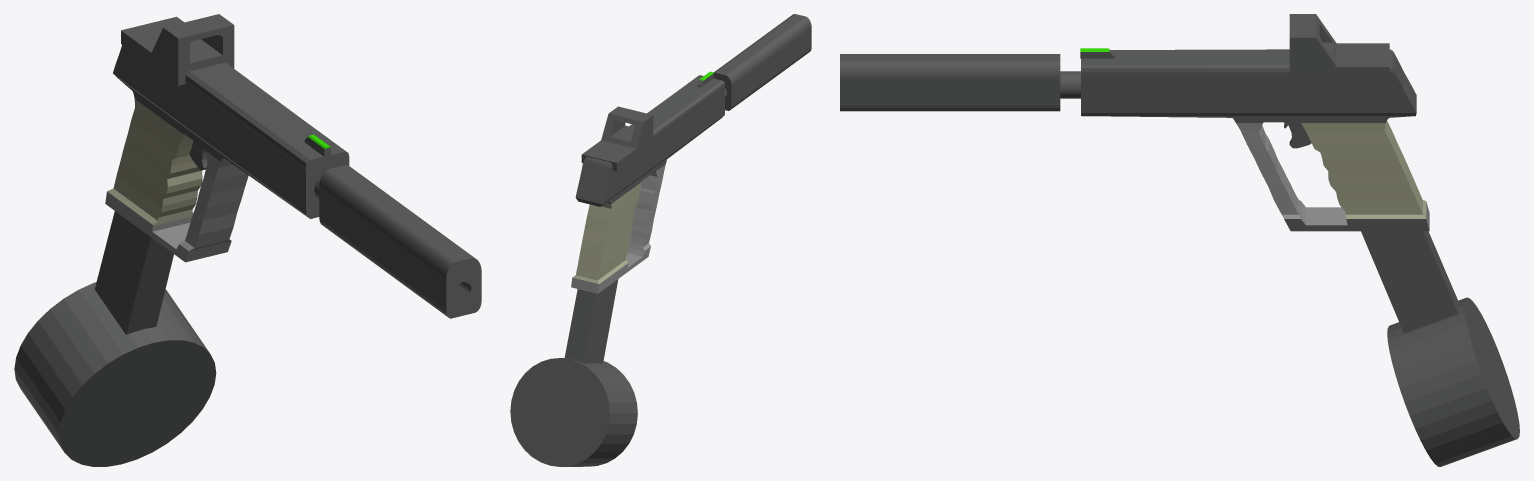
Rendered from 9mm.pistol.fbx.
3 views of the same model, side by side, from view 1: azimuth 30°, elevation 25°; view 2: azimuth 150°, elevation 25°; view 3: azimuth 270°, elevation 25° (orthographic). The views are drawn at different scales.
Parts seen in each view (by area): view 1: 50.round.drum, base, Cube, Cube.001; view 2: 50.round.drum, base, Cube, Cube.001; view 3: base, 50.round.drum, Cube, Cube.001.
Part boxes in pixels (left/top/right/bottom): 50.round.drum: left=14, top=211, right=216, bottom=466; base: left=105, top=45, right=349, bottom=262; Cube: left=319, top=165, right=481, bottom=318; Cube.001: left=121, top=14, right=234, bottom=85; 50.round.drum: left=510, top=279, right=637, bottom=466; base: left=571, top=75, right=724, bottom=293; Cube: left=713, top=14, right=811, bottom=110; Cube.001: left=581, top=106, right=653, bottom=171; base: left=1081, top=49, right=1429, bottom=231; 50.round.drum: left=1361, top=231, right=1519, bottom=466; Cube: left=840, top=54, right=1060, bottom=111; Cube.001: left=1289, top=14, right=1389, bottom=78.
Size of the model in its own units: 89.6 by 394 by 276.
